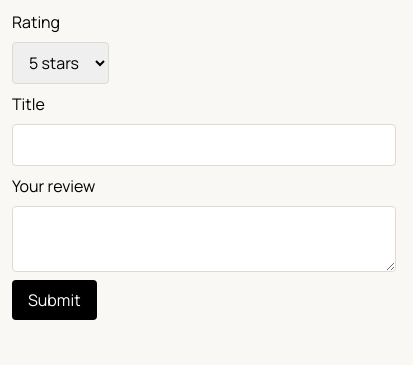
it: ReviewForm › recovers from a network failure by re-enabling the submit button and showing an error
Type "Great frame" into the field labelled "Title" at (204, 145), box x1=12 y1=124 x2=396 y2=166
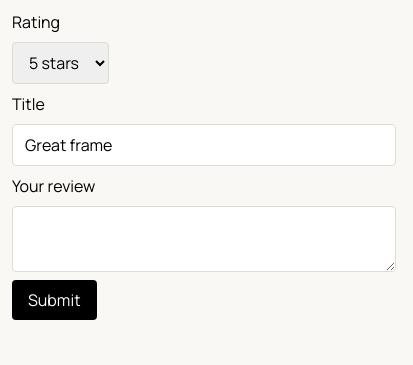
Type "Really happy with it" into the text box labelled "Your review" at (204, 239), box x1=12 y1=206 x2=396 y2=272
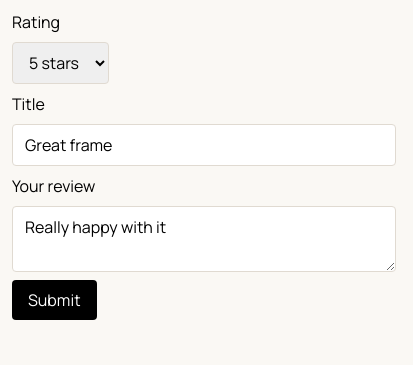
Click the button "Submit" at (54, 300), box x1=12 y1=280 x2=97 y2=320
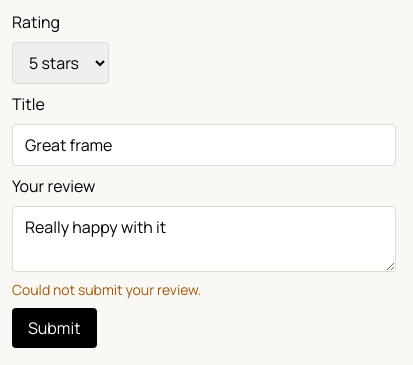
Now the button "Submit" is enabled, box x1=12 y1=308 x2=97 y2=348
Now the text "Could not submit your review." is shown, box x1=12 y1=280 x2=201 y2=299
